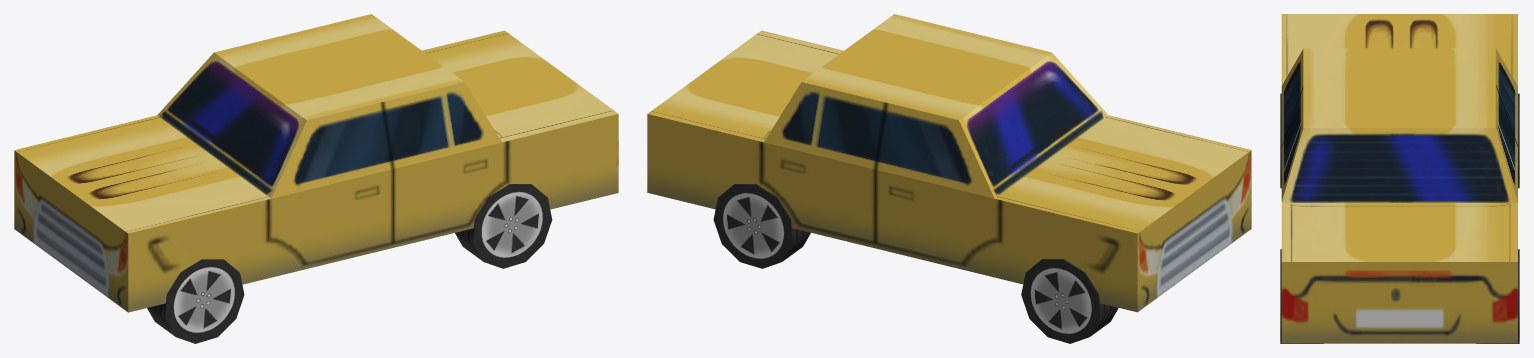
Rendered from avto_2.FBX.
The picture shows the model from 3 angles, left to right: view 1: azimuth 30°, elevation 25°; view 2: azimuth 150°, elevation 25°; view 3: azimuth 270°, elevation 25°; orthographic projection. The views are drawn at different scales.
Visible parts, largest first — view 1: car002, Cylinder020, Cylinder019; view 2: car002, Cylinder018, Cylinder021; view 3: car002, Cylinder018, Cylinder019, Cylinder020, Cylinder021.
Boxes of the visible parts, x1,y1,x2,y2 form: car002: (14, 14, 618, 312); Cylinder020: (147, 259, 244, 343); Cylinder019: (455, 184, 552, 268); car002: (647, 14, 1251, 312); Cylinder018: (713, 184, 810, 268); Cylinder021: (1021, 259, 1118, 343); car002: (1281, 14, 1517, 343); Cylinder018: (1476, 249, 1519, 343); Cylinder019: (1280, 249, 1323, 343); Cylinder020: (1280, 93, 1281, 188); Cylinder021: (1518, 93, 1519, 188).
Bounding box in the file's own units: 3.1 × 1.12 × 1.26.
Materials: 2 (2 with a texture image).
